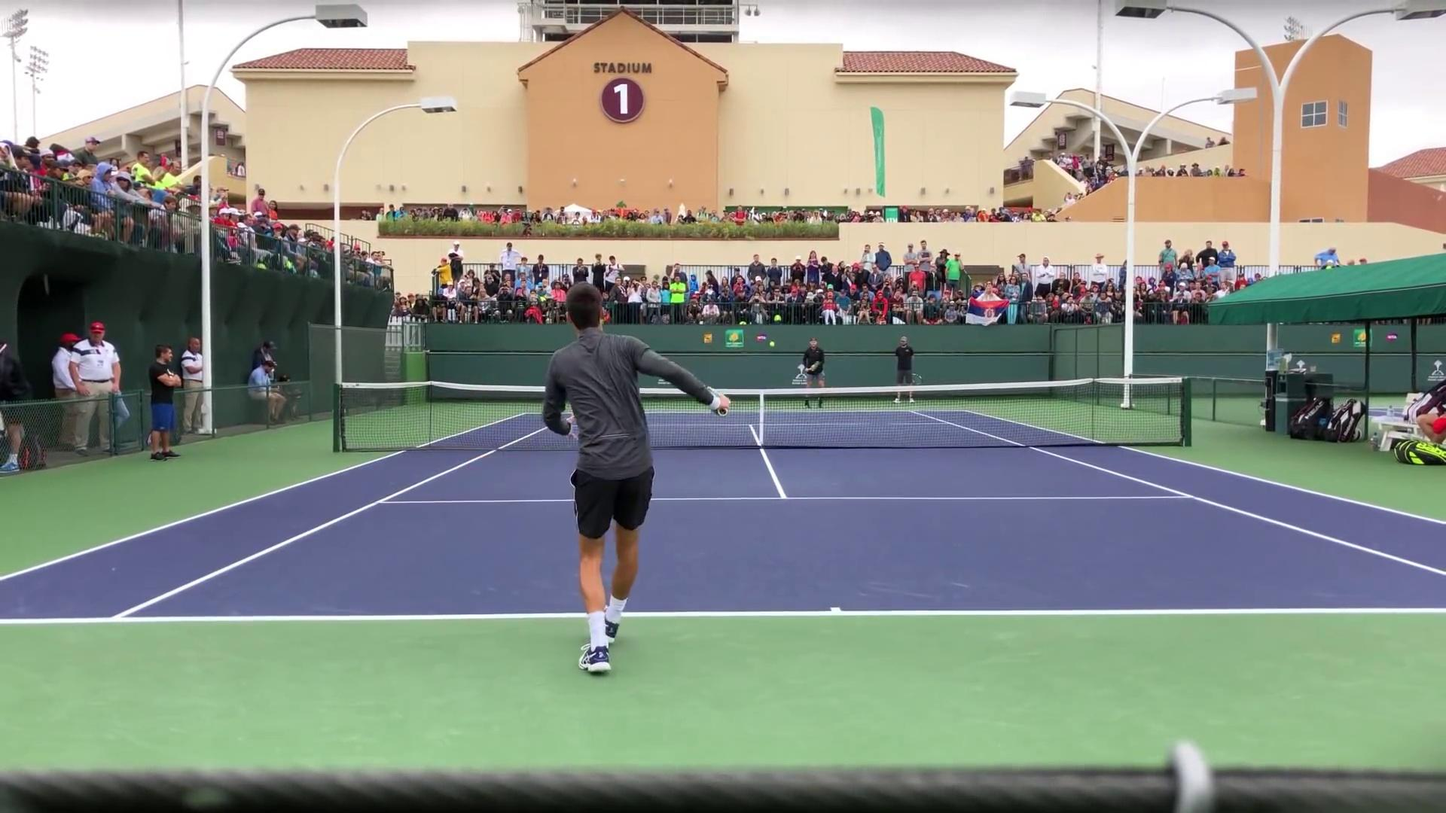ball: (768, 340, 776, 347)
